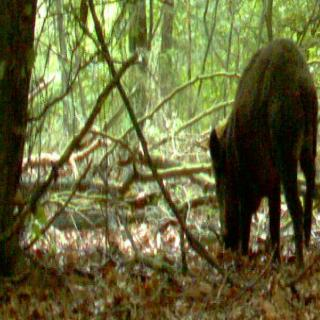Pig: (200, 18, 320, 297)
